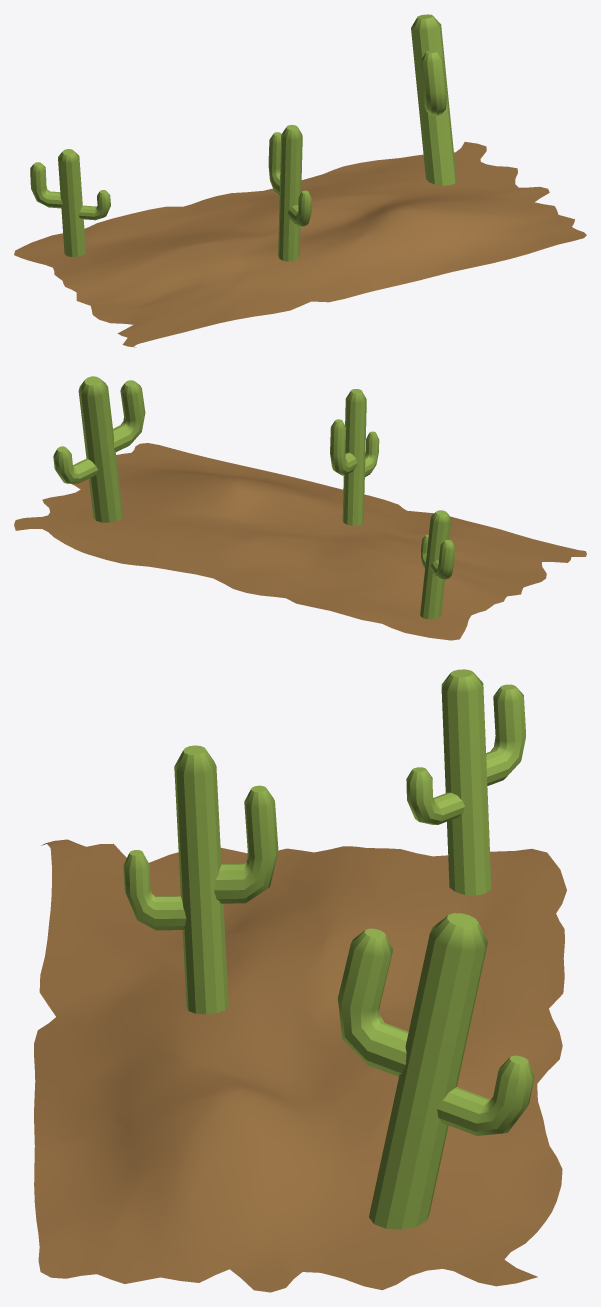
The model's file is foreground2.fbx.
3 renders of one model, top to bottom at view 1: azimuth 30°, elevation 25°; view 2: azimuth 150°, elevation 25°; view 3: azimuth 270°, elevation 25°, orthographic. The views are drawn at different scales.
Parts seen in each view (by area): view 1: cactus24; view 2: cactus24; view 3: cactus24.
Boxes of the visible parts, bbox=[...] form: cactus24: bbox=[14, 14, 586, 347]; cactus24: bbox=[14, 376, 586, 640]; cactus24: bbox=[34, 669, 566, 1292].
Size of the model in its own units: 398 by 127 by 197.
